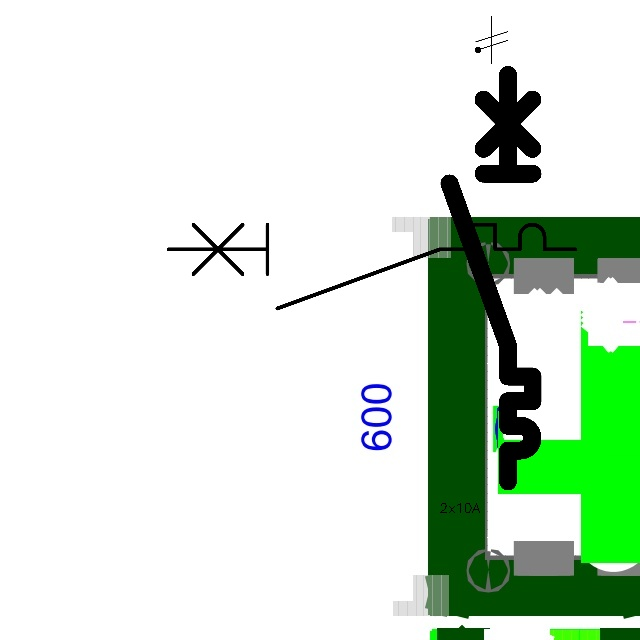interruptor_termomagnetico: (158, 214, 586, 319), (439, 64, 543, 491)
